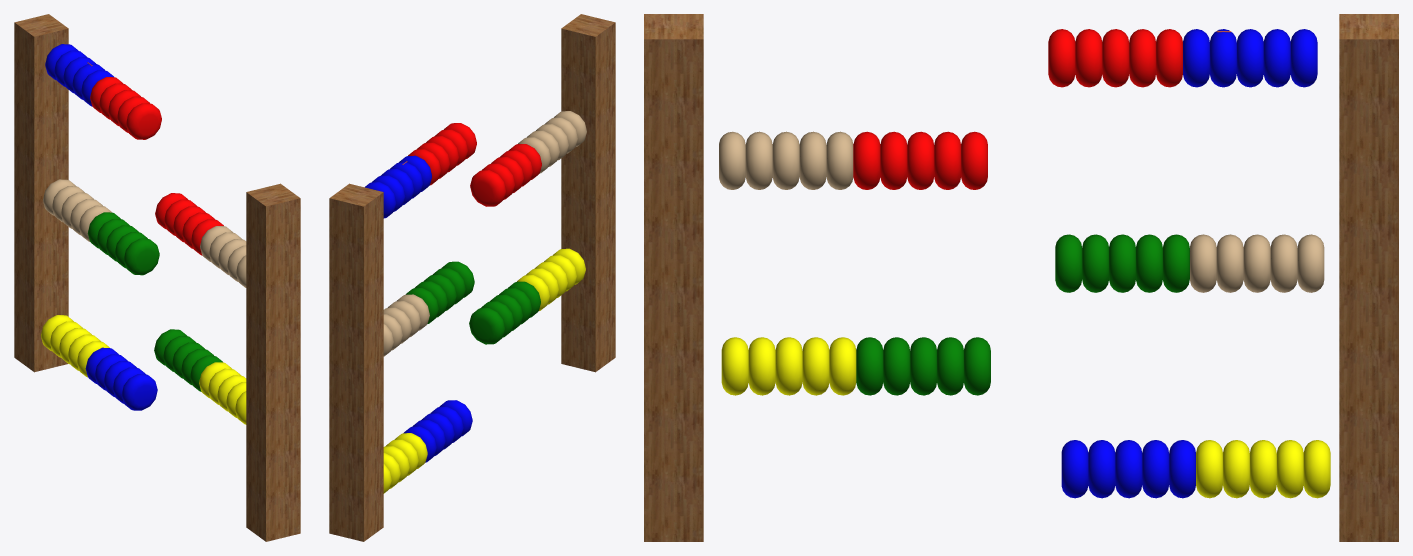
File: abacus.dae
The picture shows the model from 3 angles, left to right: view 1: azimuth 30°, elevation 25°; view 2: azimuth 150°, elevation 25°; view 3: azimuth 270°, elevation 25°; orthographic projection. The views are drawn at different scales.
Visible parts, largest first — view 1: box (×2), chamfer (×48); view 2: box (×2), chamfer (×48); view 3: chamfer (×50), box (×2).
Boxes of the visible parts, x1=… form: box (×2): x1=14, y1=14, x2=300, y2=541; chamfer (×48): x1=41, y1=44, x2=246, y2=418; box (×2): x1=329, y1=14, x2=615, y2=541; chamfer (×48): x1=365, y1=111, x2=586, y2=488; chamfer (×50): x1=719, y1=29, x2=1330, y2=498; box (×2): x1=644, y1=14, x2=1398, y2=541.
Bounding box in the file's own units: 51.25 × 649 × 477.
